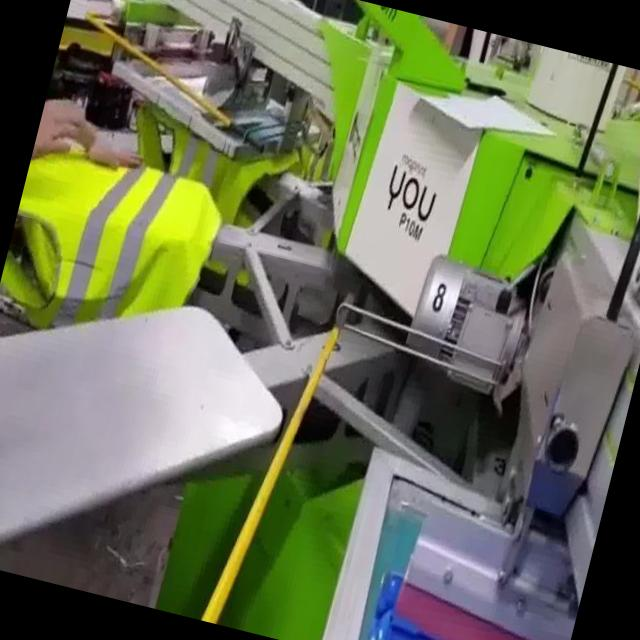safety_vest: (0, 137, 230, 365)
